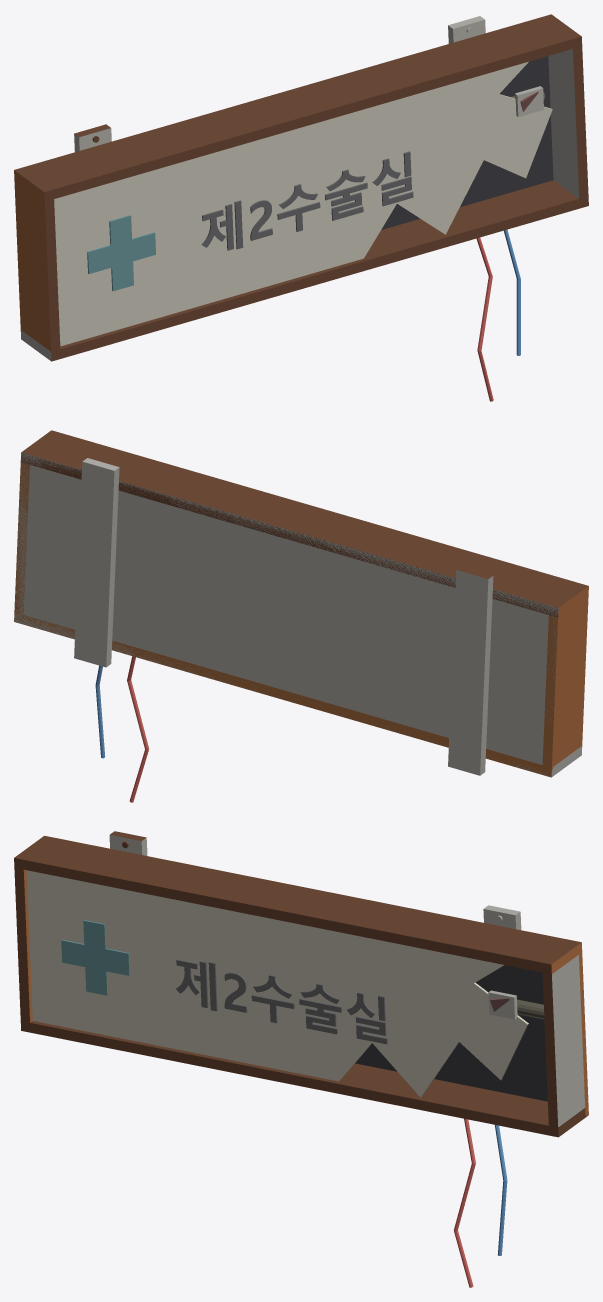
The model's file is operaitingroom_sign_v2.fbx.
The picture shows the model from 3 angles, top to bottom: view 1: azimuth 30°, elevation 25°; view 2: azimuth 150°, elevation 25°; view 3: azimuth 330°, elevation 25°; orthographic projection.
Visible parts, largest first — view 1: 02_OR2_Sign_Damaged_Mesh; view 2: 02_OR2_Sign_Damaged_Mesh; view 3: 02_OR2_Sign_Damaged_Mesh.
Boxes of the visible parts, box(x1,y1,x2,y2) form: 02_OR2_Sign_Damaged_Mesh: box(14, 14, 588, 401); 02_OR2_Sign_Damaged_Mesh: box(14, 430, 588, 802); 02_OR2_Sign_Damaged_Mesh: box(14, 831, 588, 1287).
Size of the model in its own units: 93.13 by 58.53 by 10.73.
